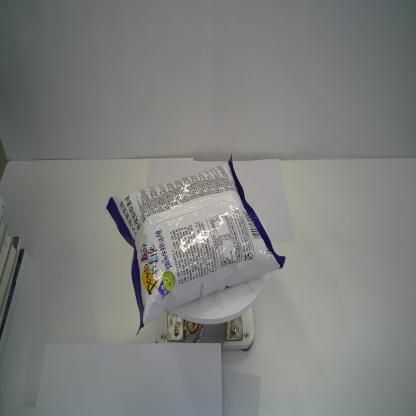Puffed Food: (106, 153, 286, 337)
